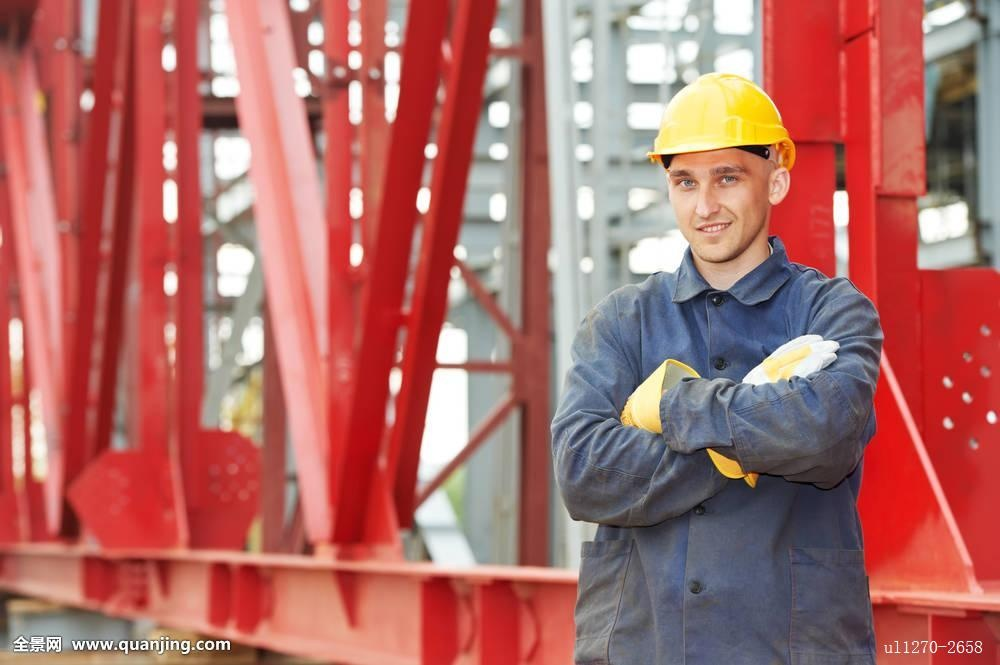yellow: (642, 69, 799, 262)
